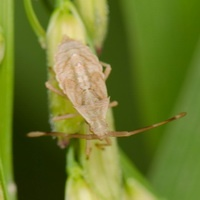insect: (27, 40, 186, 139)
